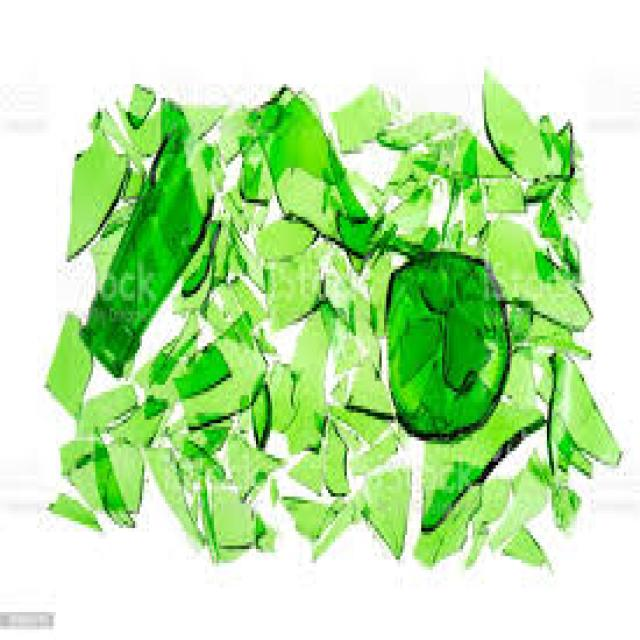glass: (79, 126, 205, 367), (379, 248, 510, 437), (247, 77, 379, 238), (412, 395, 540, 542), (484, 217, 591, 329), (470, 67, 566, 179), (61, 116, 131, 249), (175, 304, 263, 409), (547, 350, 621, 472), (277, 157, 370, 252), (138, 427, 210, 542), (279, 297, 335, 444), (163, 423, 226, 546), (56, 434, 142, 507), (487, 448, 550, 546), (408, 479, 480, 563), (42, 301, 93, 409), (431, 297, 489, 385), (356, 462, 407, 560), (86, 423, 133, 525), (328, 84, 396, 154), (261, 252, 321, 329), (501, 301, 587, 353), (135, 315, 198, 385), (96, 388, 166, 448), (84, 91, 135, 171), (96, 158, 147, 235), (319, 256, 370, 326), (340, 350, 393, 416), (75, 381, 140, 434), (205, 472, 254, 542), (200, 277, 261, 333), (398, 308, 440, 388), (373, 108, 457, 147), (501, 339, 545, 413), (533, 108, 572, 189), (226, 434, 277, 493), (177, 210, 221, 276), (279, 493, 342, 539), (163, 87, 216, 140), (172, 346, 233, 392), (231, 151, 275, 214), (319, 402, 389, 441), (377, 179, 424, 235), (450, 165, 487, 235), (456, 472, 507, 521), (310, 497, 354, 553), (317, 423, 349, 500), (209, 105, 256, 157), (265, 350, 298, 423), (549, 420, 591, 476), (249, 217, 305, 259), (368, 242, 396, 326), (191, 476, 219, 560), (477, 171, 528, 217), (89, 224, 124, 290), (463, 126, 507, 175), (549, 161, 589, 213), (533, 245, 582, 287), (117, 80, 154, 133), (193, 137, 228, 193), (501, 521, 550, 560), (344, 427, 398, 462), (49, 490, 98, 528), (344, 161, 384, 206), (438, 133, 477, 178), (389, 144, 428, 186), (286, 444, 321, 490), (531, 199, 563, 245), (412, 266, 451, 301), (242, 385, 265, 441), (333, 329, 363, 367), (221, 182, 244, 231), (249, 507, 272, 556), (552, 476, 577, 521), (442, 214, 468, 256), (384, 157, 417, 189), (522, 165, 559, 193), (361, 325, 384, 367), (140, 95, 156, 151), (200, 416, 228, 448), (431, 126, 452, 161), (252, 325, 273, 360), (549, 231, 575, 259), (463, 525, 482, 556), (247, 203, 265, 234), (137, 388, 163, 409), (565, 129, 582, 161), (330, 371, 347, 402), (414, 228, 433, 249), (417, 140, 431, 164), (268, 479, 277, 500)
